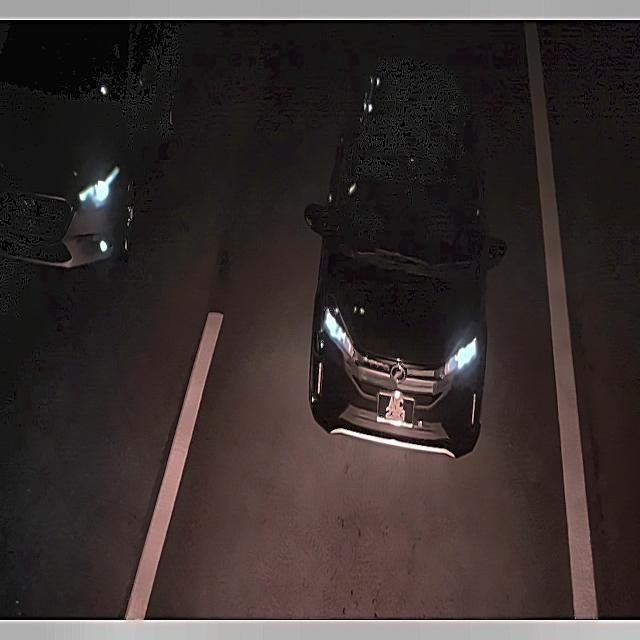car: (375, 387, 427, 429)
